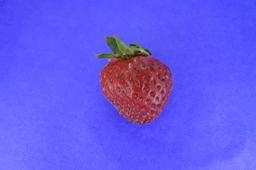red strawberry: (98, 40, 175, 127)
